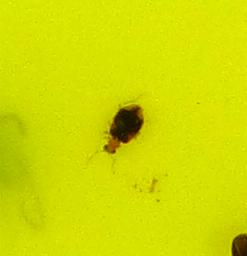Coleoptera: (100, 100, 147, 156)
